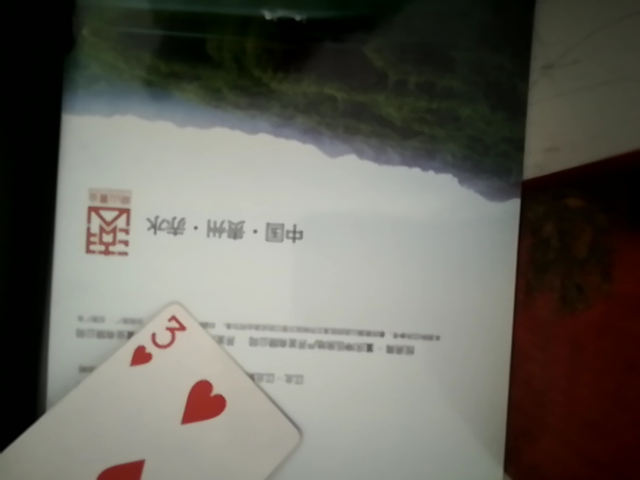hx 3: (41, 311, 293, 480)
